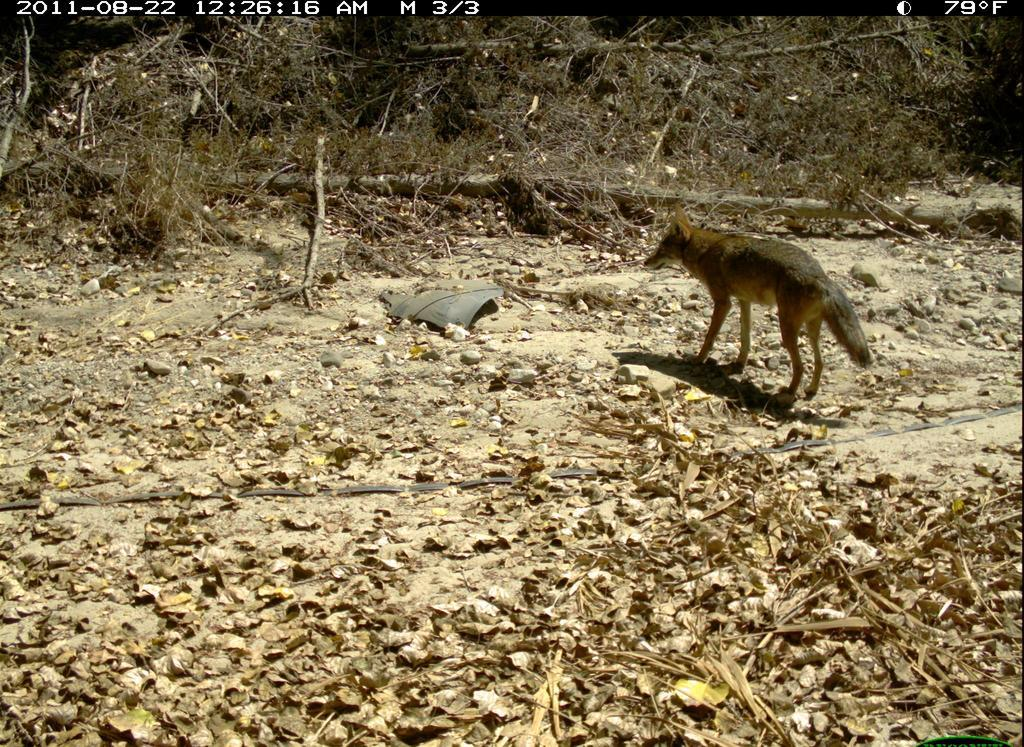coyote: (641, 209, 876, 406)
